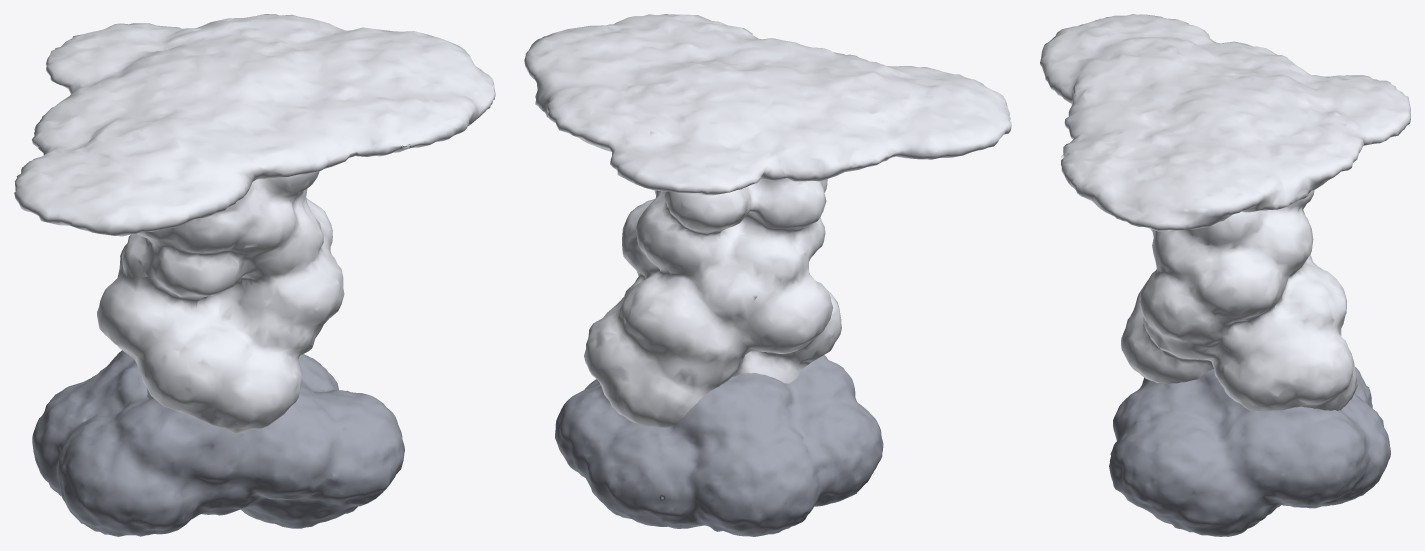
File: cumulonimbus_tower.obj
3 views of the same model, side by side, from view 1: azimuth 30°, elevation 25°; view 2: azimuth 150°, elevation 25°; view 3: azimuth 270°, elevation 25° (orthographic). The views are drawn at different scales.
Visible parts, largest first — view 1: cumulonimbus_tower; view 2: cumulonimbus_tower; view 3: cumulonimbus_tower.
Part boxes in pixels (x1,y1,x2,y2): cumulonimbus_tower: [14, 14, 495, 536]; cumulonimbus_tower: [524, 14, 1011, 536]; cumulonimbus_tower: [1040, 14, 1410, 536].
Bounding box in the file's own units: 1600 × 1442 × 1196.
Materials: 1 (1 with a texture image).
